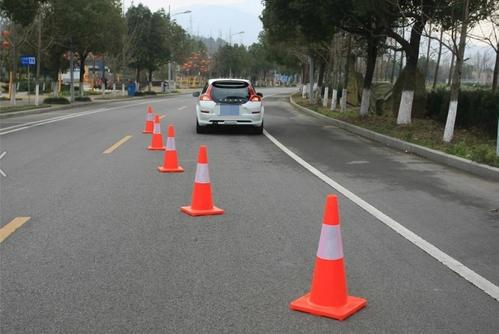cone_barrel: (290, 197, 364, 318), (179, 148, 223, 215), (158, 122, 183, 172), (146, 111, 163, 148), (142, 105, 154, 132)
